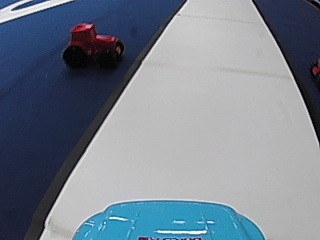tractor: (62, 21, 125, 69)
